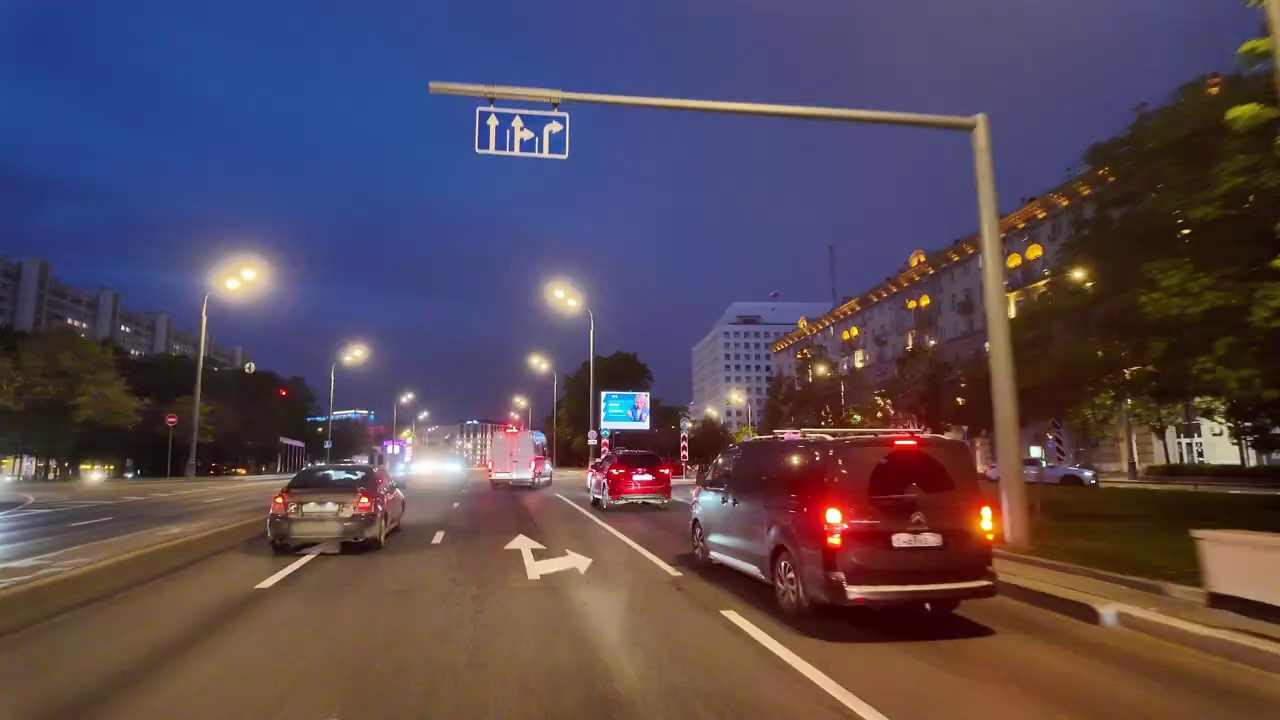acesa: (218, 259, 266, 298), (545, 279, 582, 315), (338, 340, 371, 370), (526, 351, 553, 376), (395, 388, 417, 409)
